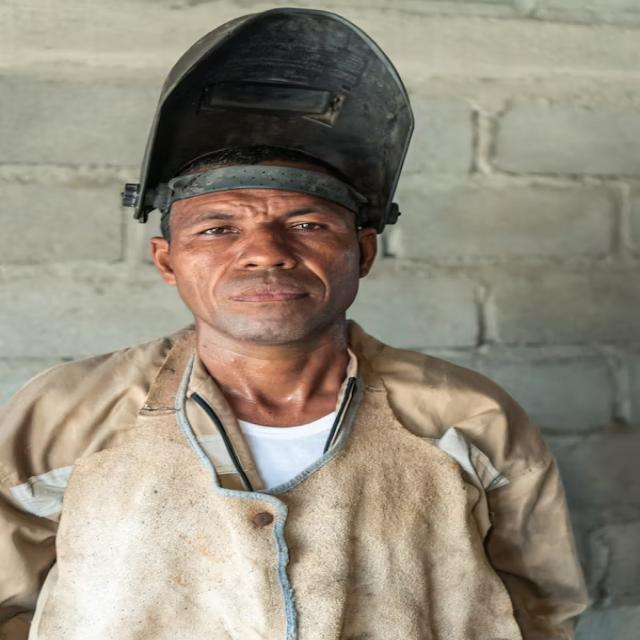helmet_lifted: (107, 1, 434, 352)
